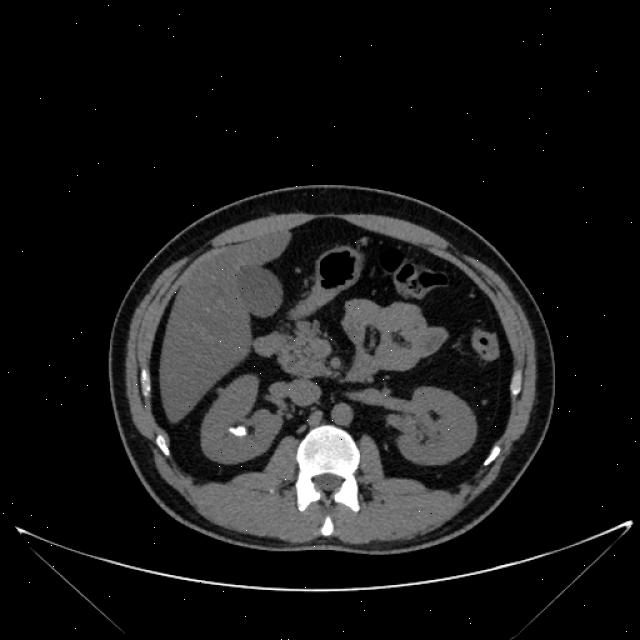kidneystone: (229, 426, 248, 437)
